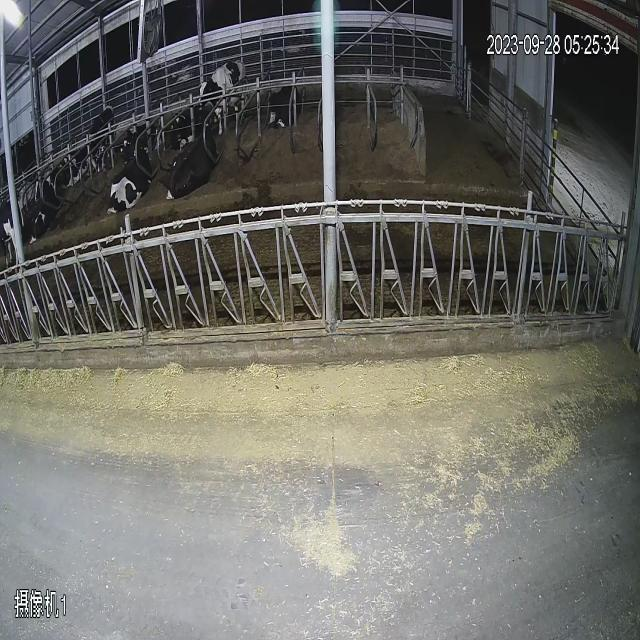lying down: (168, 128, 230, 200), (111, 144, 160, 216)
standing: (194, 48, 246, 114)
